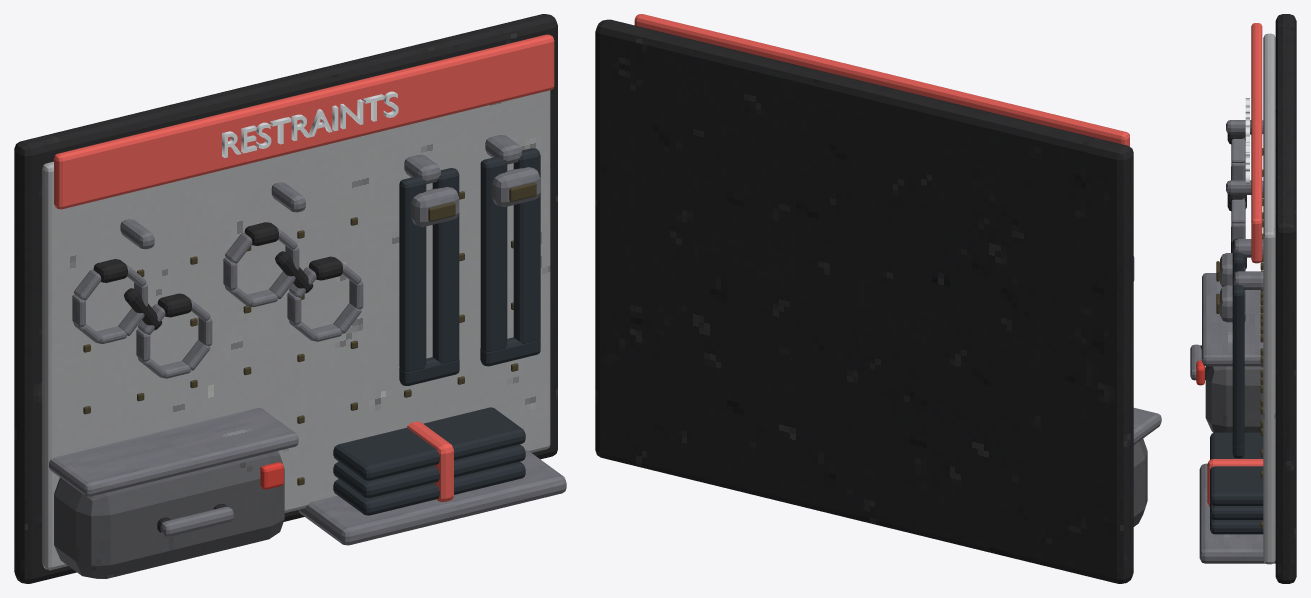
The model's file is decor_sec_restraint_display.glb.
The picture shows the model from 3 angles, left to right: view 1: azimuth 30°, elevation 25°; view 2: azimuth 150°, elevation 25°; view 3: azimuth 270°, elevation 25°; orthographic projection. The views are drawn at different scales.
Visible parts, largest first — view 1: DEC_SecRestraintDisplay__Pegboard, DEC_SecRestraintDisplay__Back_Frame, DEC_SecRestraintDisplay__Header, DEC_SecRestraintDisplay__Reserve_Box, DEC_SecRestraintDisplay__Reserve_Lid, DEC_SecRestraintDisplay__Strap_Tray, DEC_SecRestraintDisplay__Folded_Strap_2, DEC_SecRestraintDisplay__Belt_Strap_0_0, DEC_SecRestraintDisplay__Belt_Strap_1_0, DEC_SecRestraintDisplay__Belt_Strap_1_1, DEC_SecRestraintDisplay__Belt_Strap_0_1, DEC_SecRestraintDisplay__Folded_Strap_1 (+10 smaller); view 2: DEC_SecRestraintDisplay__Back_Frame, DEC_SecRestraintDisplay__Header, DEC_SecRestraintDisplay__Reserve_Box, DEC_SecRestraintDisplay__Reserve_Lid; view 3: DEC_SecRestraintDisplay__Back_Frame, DEC_SecRestraintDisplay__Pegboard, DEC_SecRestraintDisplay__Reserve_Lid, DEC_SecRestraintDisplay__Folded_Strap_2, DEC_SecRestraintDisplay__Reserve_Box, DEC_SecRestraintDisplay__Header, DEC_SecRestraintDisplay__Strap_Tray, DEC_SecRestraintDisplay__Belt_Strap_1_1, DEC_SecRestraintDisplay__Folded_Strap_0, DEC_SecRestraintDisplay__Folded_Strap_1, DEC_SecRestraintDisplay__Strap_Band, DEC_SecRestraintDisplay__Belt_Hook_1 (+13 smaller).
Part boxes in pixels (x1,y1,x2,y2): DEC_SecRestraintDisplay__Pegboard: [42, 90, 550, 570]; DEC_SecRestraintDisplay__Back_Frame: [14, 14, 557, 583]; DEC_SecRestraintDisplay__Header: [54, 34, 554, 209]; DEC_SecRestraintDisplay__Reserve_Box: [54, 451, 284, 578]; DEC_SecRestraintDisplay__Reserve_Lid: [42, 407, 298, 496]; DEC_SecRestraintDisplay__Strap_Tray: [298, 450, 566, 545]; DEC_SecRestraintDisplay__Folded_Strap_2: [333, 407, 525, 480]; DEC_SecRestraintDisplay__Belt_Strap_0_0: [399, 176, 426, 371]; DEC_SecRestraintDisplay__Belt_Strap_1_0: [480, 156, 507, 352]; DEC_SecRestraintDisplay__Belt_Strap_1_1: [513, 148, 540, 343]; DEC_SecRestraintDisplay__Belt_Strap_0_1: [432, 168, 459, 363]; DEC_SecRestraintDisplay__Folded_Strap_1: [333, 444, 525, 498]; DEC_SecRestraintDisplay__Back_Frame: [595, 19, 1133, 583]; DEC_SecRestraintDisplay__Header: [634, 14, 1129, 146]; DEC_SecRestraintDisplay__Reserve_Box: [1133, 438, 1147, 526]; DEC_SecRestraintDisplay__Reserve_Lid: [1133, 408, 1161, 444]; DEC_SecRestraintDisplay__Back_Frame: [1275, 14, 1296, 583]; DEC_SecRestraintDisplay__Pegboard: [1263, 33, 1275, 564]; DEC_SecRestraintDisplay__Reserve_Lid: [1202, 273, 1263, 366]; DEC_SecRestraintDisplay__Folded_Strap_2: [1210, 432, 1263, 505]; DEC_SecRestraintDisplay__Reserve_Box: [1205, 366, 1263, 432]; DEC_SecRestraintDisplay__Header: [1251, 23, 1262, 263]; DEC_SecRestraintDisplay__Strap_Tray: [1199, 463, 1275, 563]; DEC_SecRestraintDisplay__Belt_Strap_1_1: [1232, 284, 1244, 446]; DEC_SecRestraintDisplay__Folded_Strap_0: [1210, 516, 1263, 534]; DEC_SecRestraintDisplay__Folded_Strap_1: [1210, 502, 1263, 519]; DEC_SecRestraintDisplay__Strap_Band: [1207, 459, 1263, 506]; DEC_SecRestraintDisplay__Belt_Hook_1: [1233, 271, 1263, 289].
Bounding box in the file's own units: 1.46 × 1.14 × 0.3045.
Materials: 9 (4 with a texture image).
